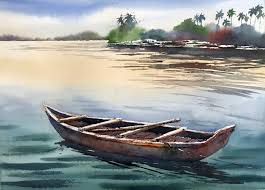boat: (41, 105, 236, 165)
